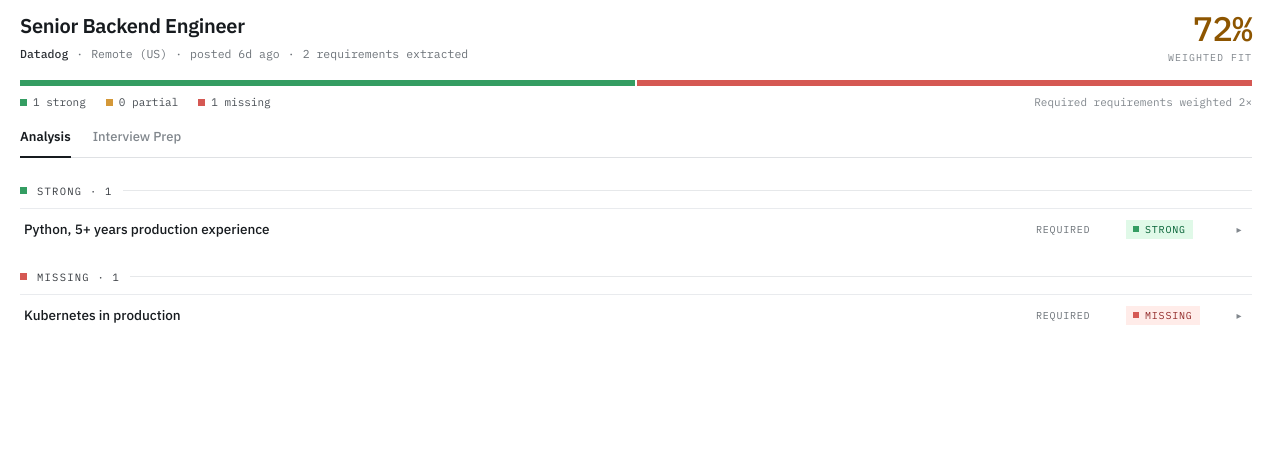
Test: AnalysisPane › expands a requirement to reveal grounded evidence
Expected: the text "built ingestion pipeline processing" is not shown
Click the button "Python, 5+ years production experience required strong ▸".
click(147, 229)  # box [20, 208, 1252, 250]
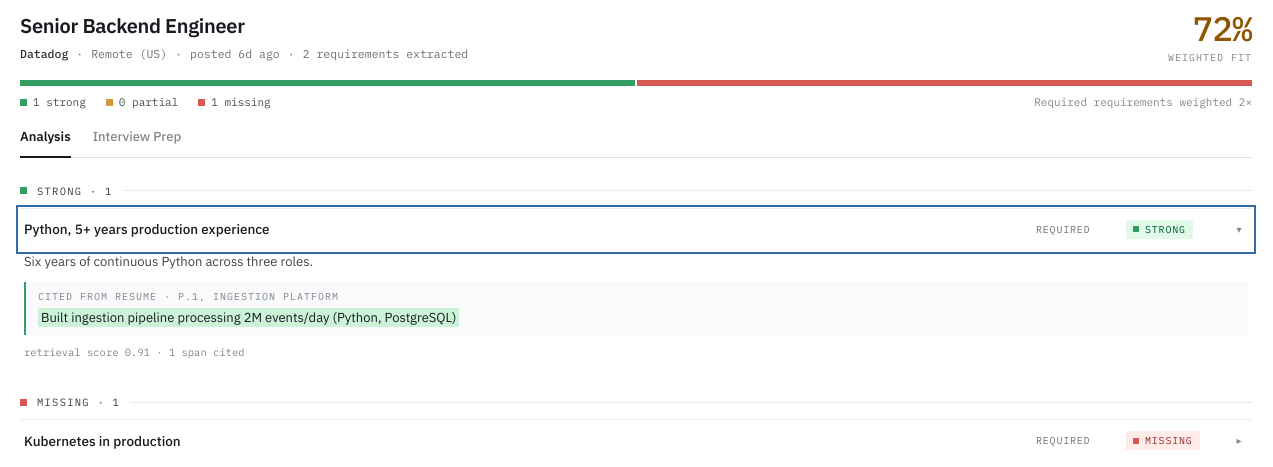
Now the text "Built ingestion pipeline processing" is shown, box [41, 309, 456, 326]
Now the text "retrieval score 0.91 · 1 span cited" is shown, box [24, 345, 244, 359]
